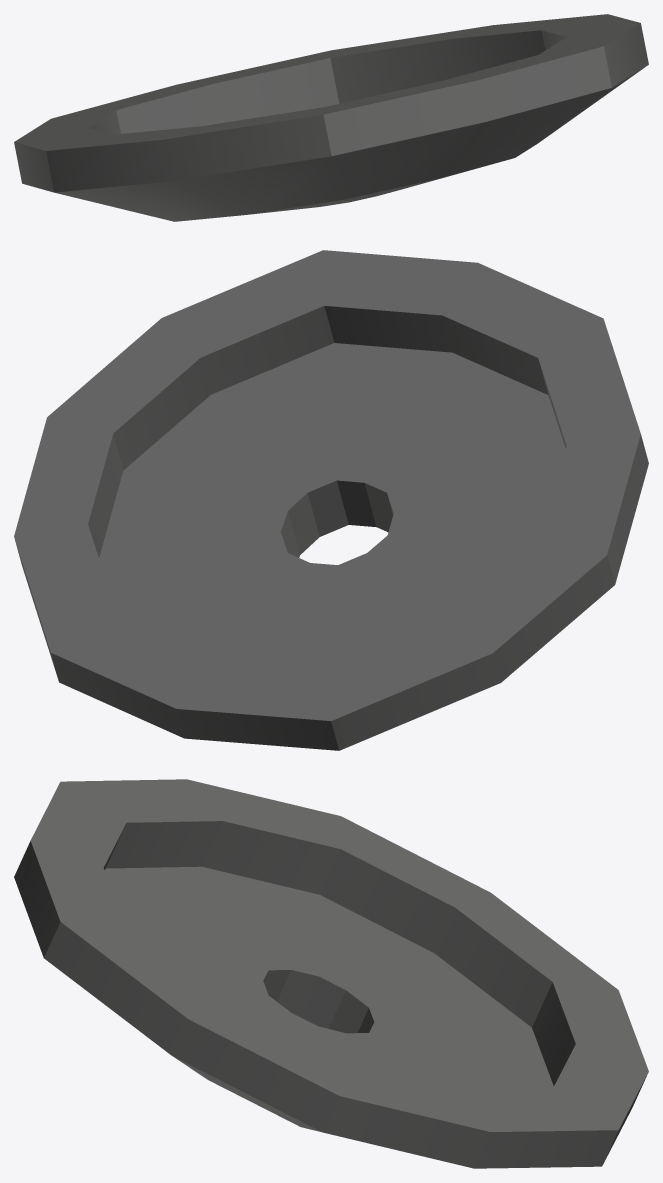
Rendered from FountainPiece2.fbx.
The picture shows the model from 3 angles, top to bottom: view 1: azimuth 30°, elevation 25°; view 2: azimuth 150°, elevation 25°; view 3: azimuth 270°, elevation 25°; orthographic projection. The views are drawn at different scales.
Parts seen in each view (by area): view 1: FountainPiece02; view 2: FountainPiece02; view 3: FountainPiece02.
Part boxes in pixels (bbox=[...]): FountainPiece02: bbox=[14, 14, 648, 221]; FountainPiece02: bbox=[14, 250, 648, 750]; FountainPiece02: bbox=[14, 779, 648, 1168].
Bounding box in the file's own units: 66.92 × 30.21 × 64.03.
